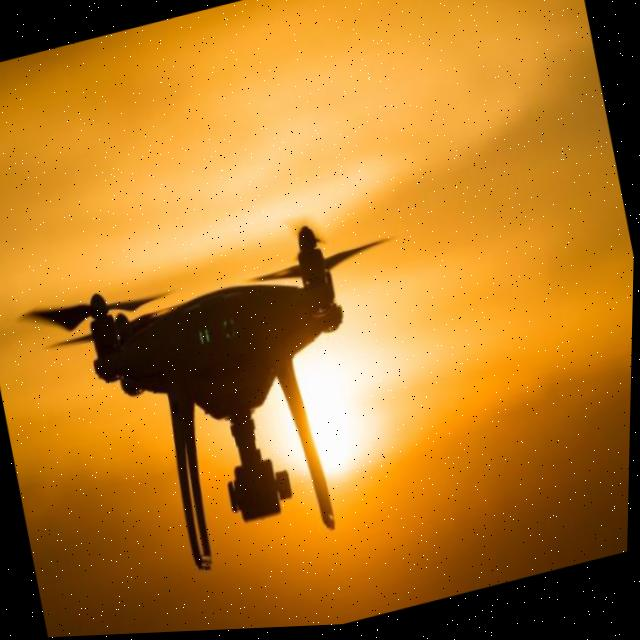drones: (0, 187, 457, 621)
